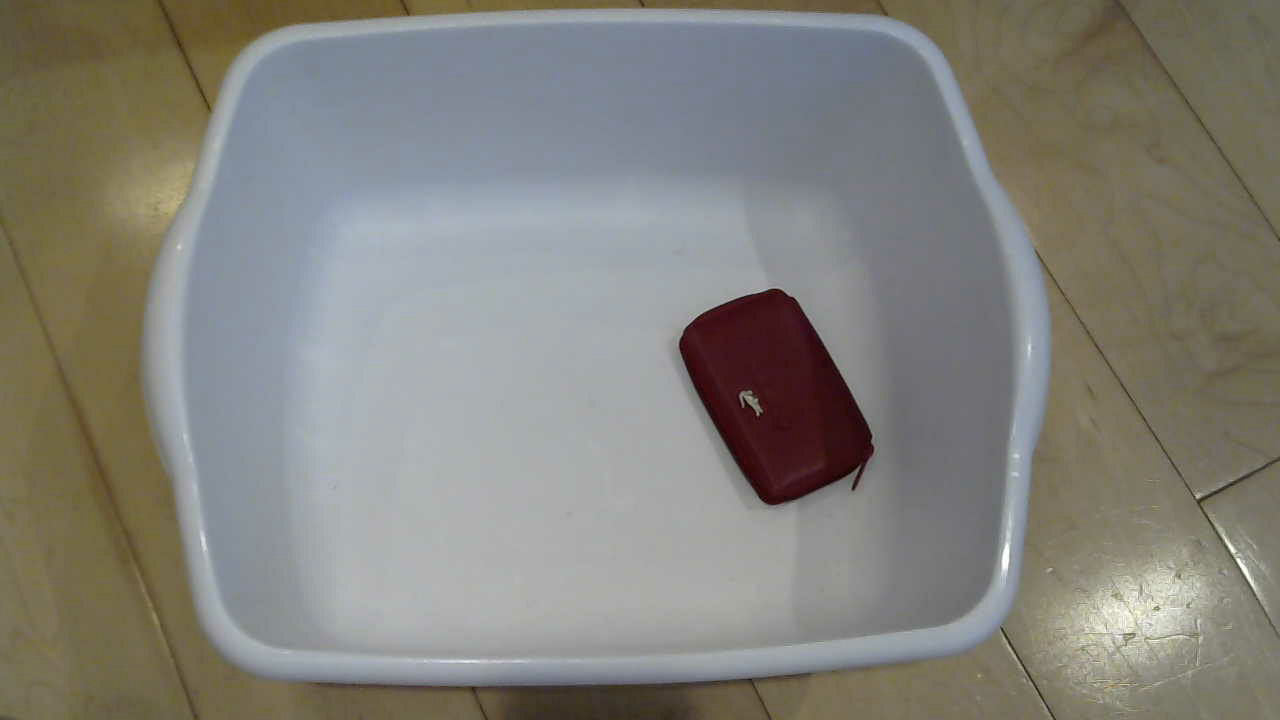wallet: (655, 287, 891, 527)
